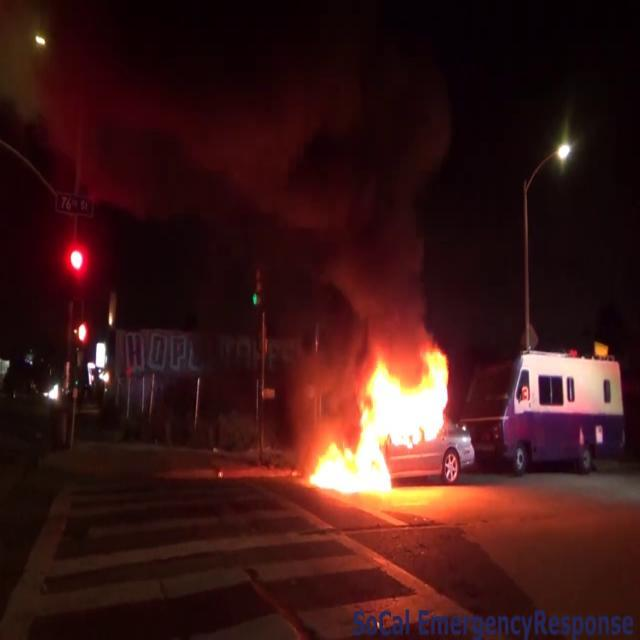Fire: (304, 348, 456, 500)
Smoke: (234, 3, 456, 362)
